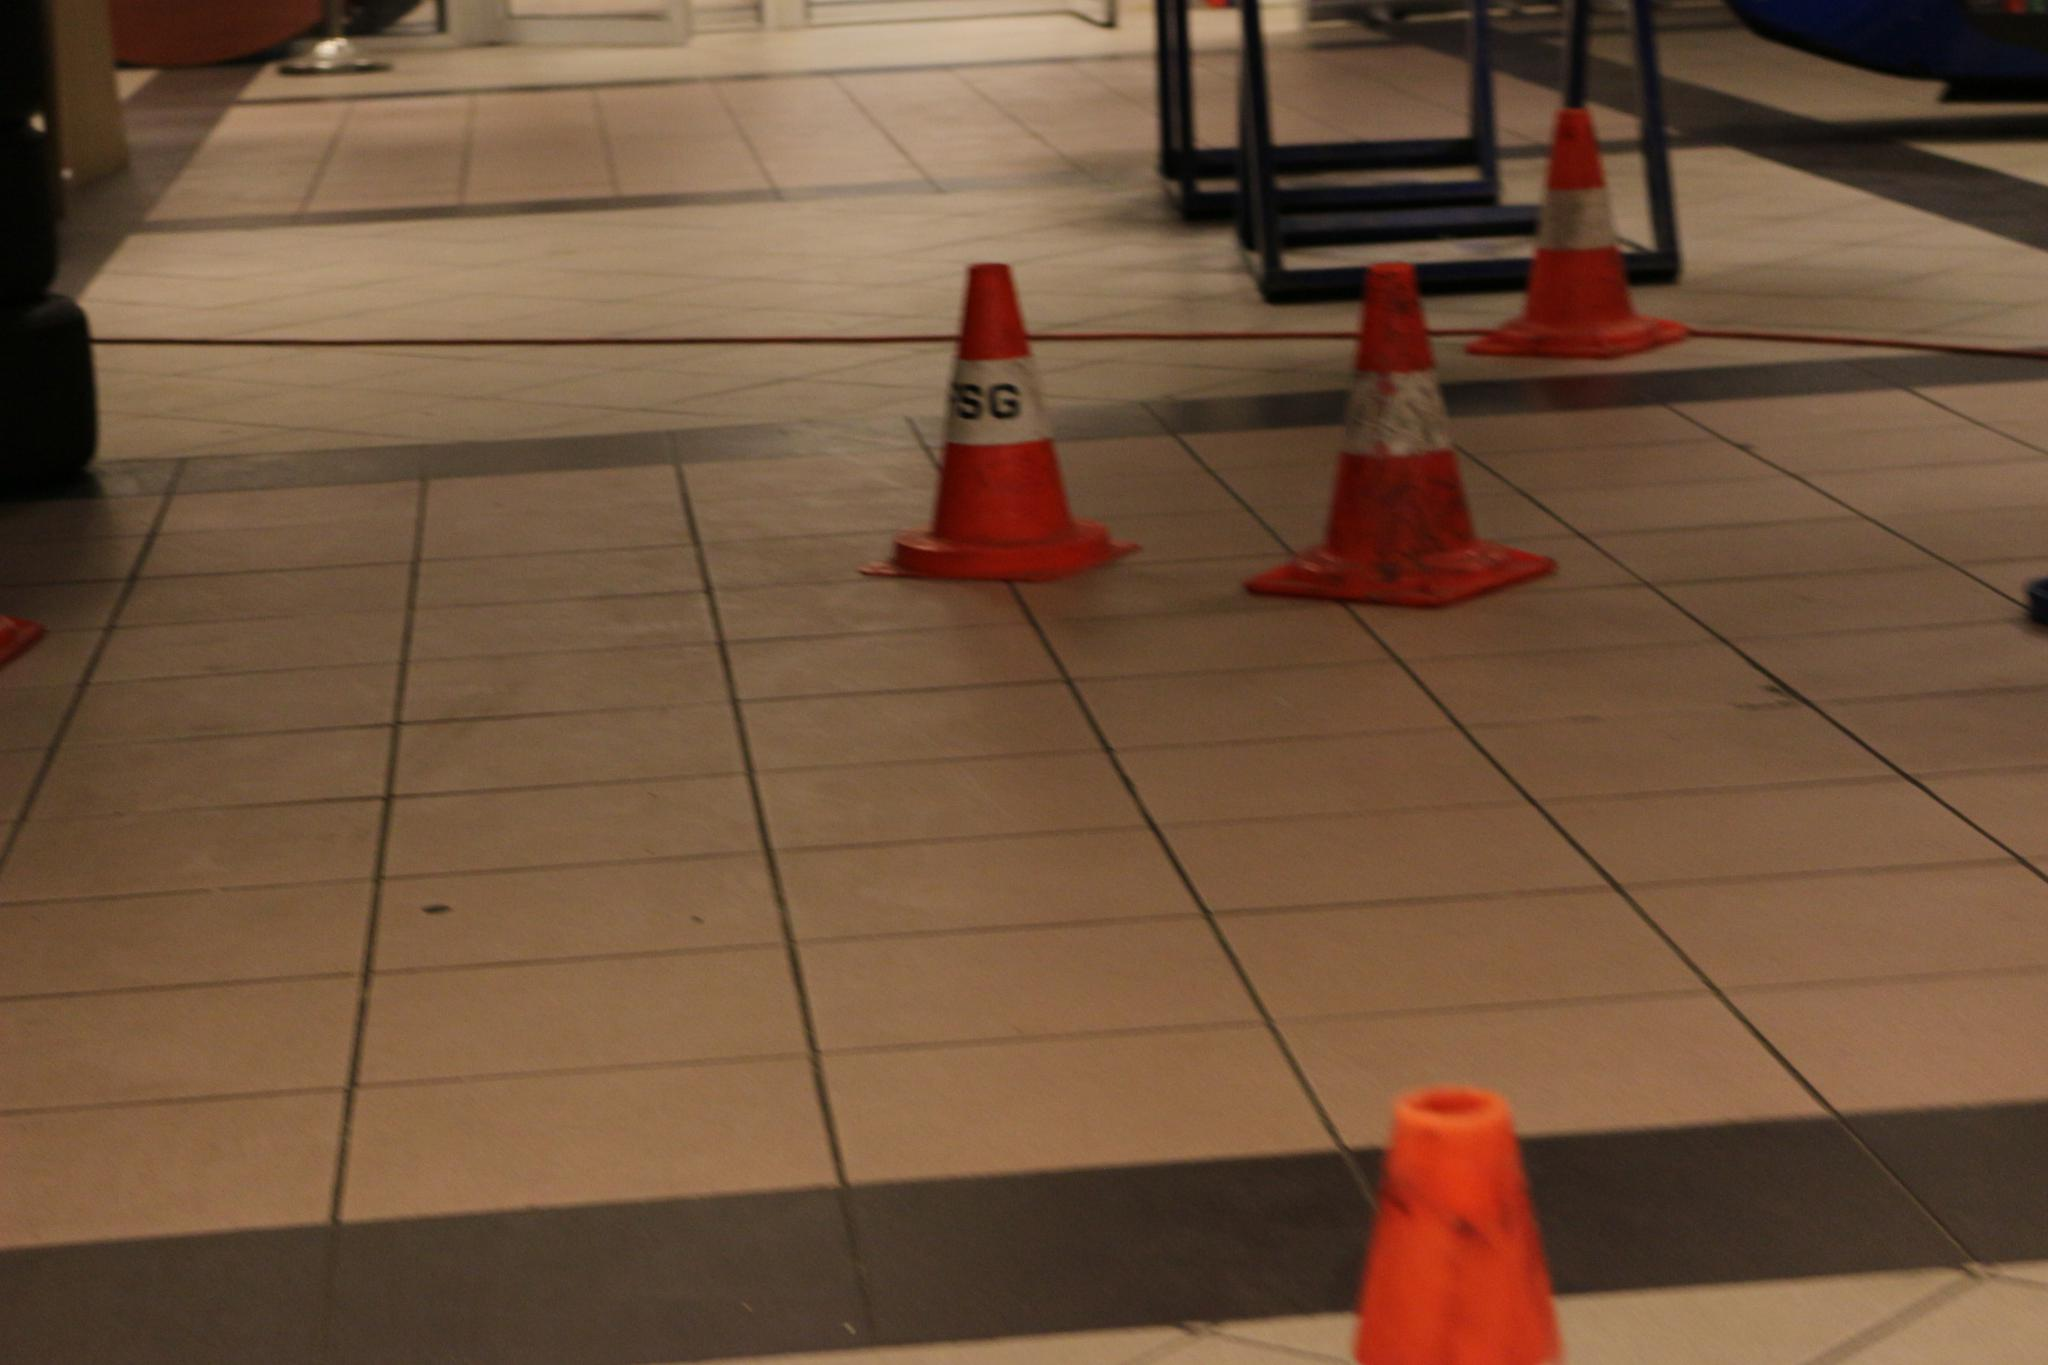Orange_Cone: (1268, 254, 1523, 603), (1322, 1079, 1596, 1363), (888, 251, 1124, 580), (1475, 102, 1672, 363)
